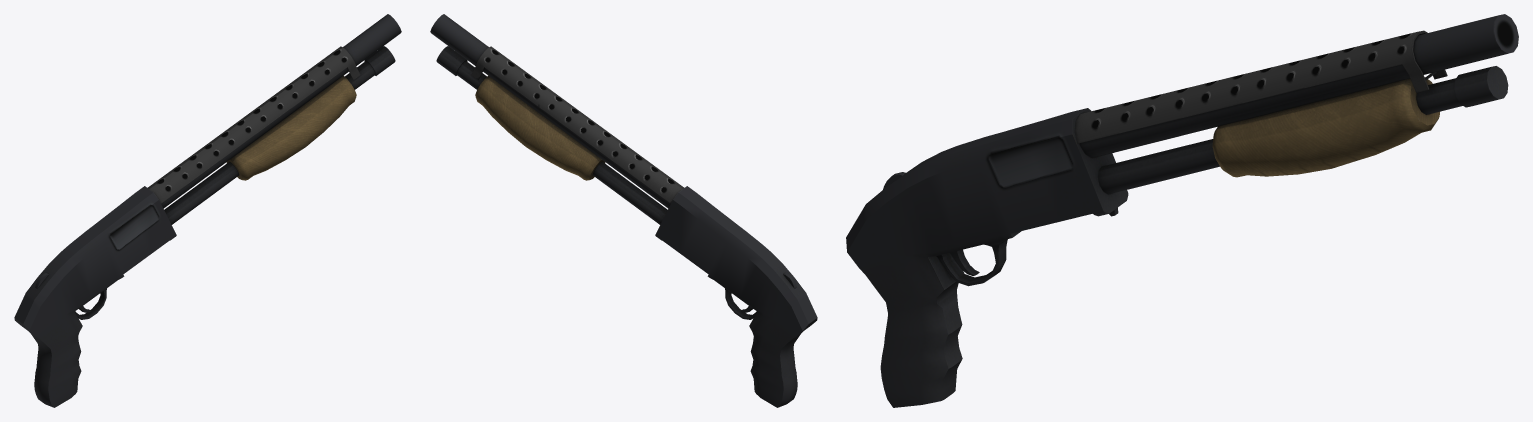
File: shotgun_000009.obj
3 renders of one model, left to right at view 1: azimuth 30°, elevation 25°; view 2: azimuth 150°, elevation 25°; view 3: azimuth 330°, elevation 25°, orthographic. The views are drawn at different scales.
Visible parts, largest first — view 1: mesh_Cube.001; view 2: mesh_Cube.001; view 3: mesh_Cube.001.
Part boxes in pixels (box(x1,y1,x2,y2)): mesh_Cube.001: box(14, 14, 401, 407); mesh_Cube.001: box(430, 14, 817, 407); mesh_Cube.001: box(846, 14, 1518, 407).
Bounding box in the file's own units: 1.64 × 1.26 × 0.1708.
1 material, 1 textured.
